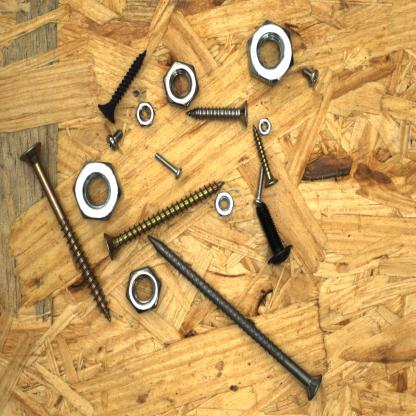screw: (145, 232, 325, 403), (18, 140, 113, 324), (100, 178, 227, 262), (95, 47, 148, 125), (251, 199, 296, 268), (183, 98, 251, 129), (251, 122, 280, 192), (151, 149, 185, 181), (253, 163, 267, 208), (300, 64, 322, 88), (104, 128, 126, 151)
